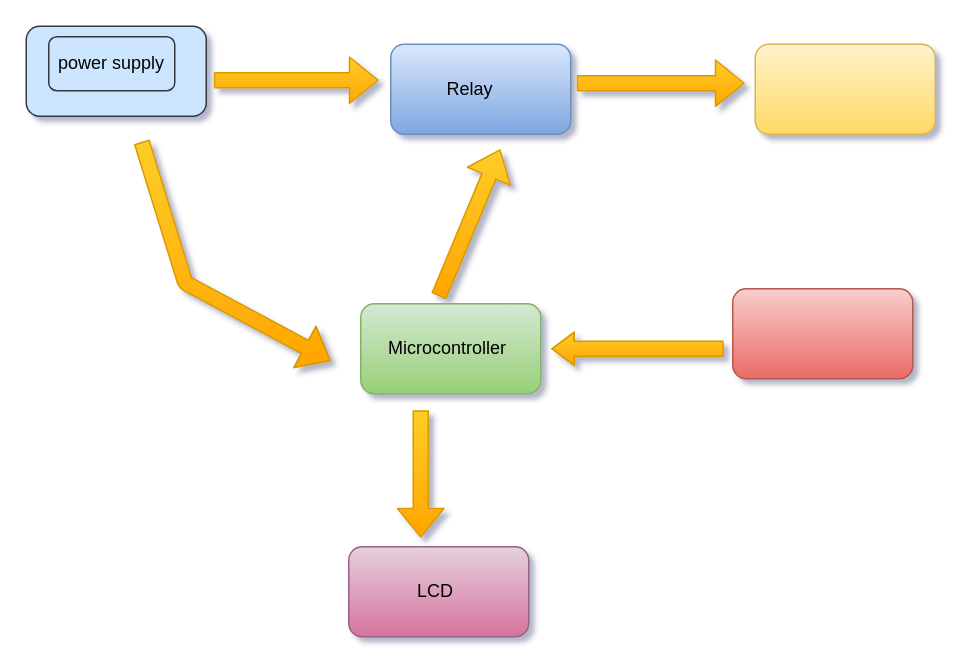
Image size: 971x672. Some labels were removed from this diagram. Here are the shapes that lost their labels. From the top down, the centre of each, then its label:
the point at 844,88: motor
the point at 822,333: 4x3 keypad
